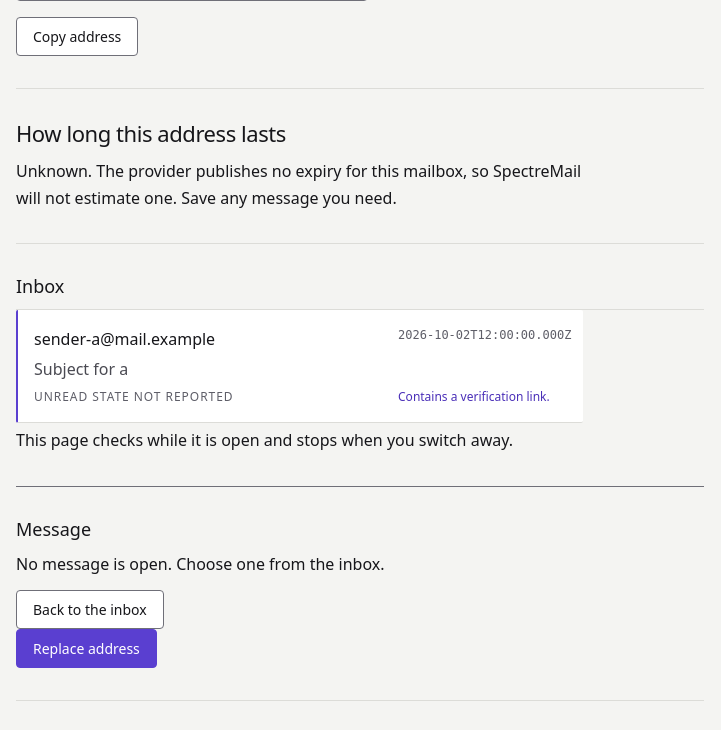
Test case: the message view › what the page found in a message › renders a detected link as a real anchor and follows nothing on its own
(page scrolled)
Click the button with test id "inbox-row-open".
click(125, 339)  # box x1=16 y1=310 x2=583 y2=423
(page scrolled)
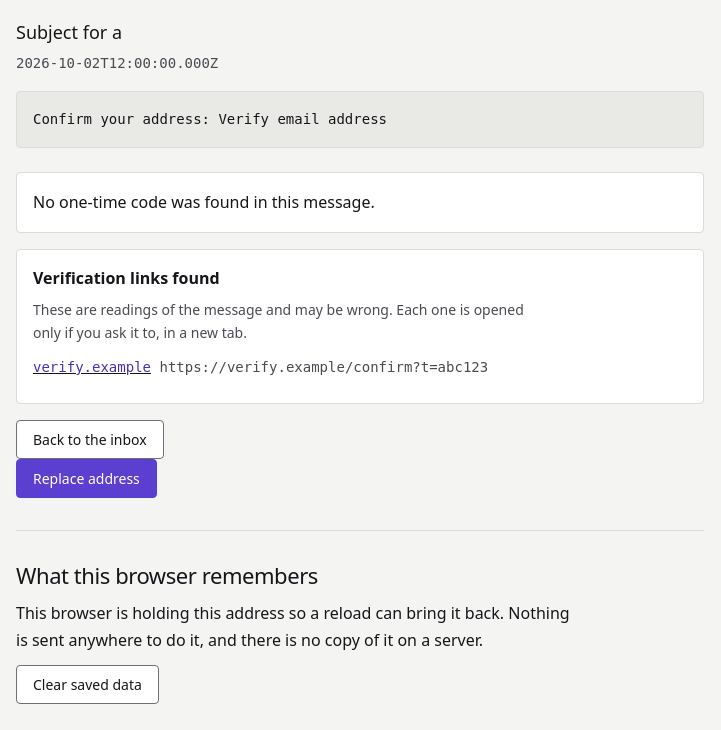
Now the text "verify.example" is shown, box x1=33 y1=359 x2=151 y2=375
Now the link "verify.example" is shown, box x1=33 y1=359 x2=151 y2=375
